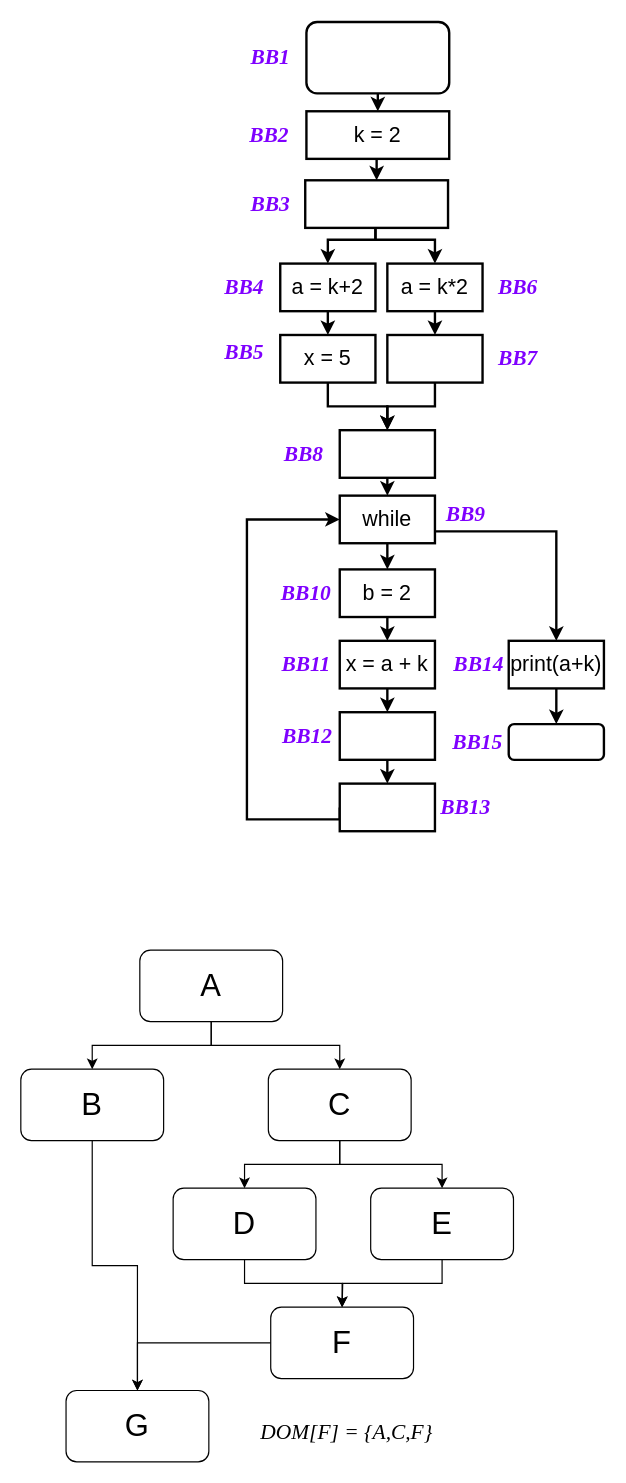
This 626x1483 diagram has some shape labels left out. Here are the shapes that lost their labels. From the top down, the centre of each, then its label:
point 377,57: entry
point 376,203: if
point 434,358: x = 8
point 387,453: k = a
point 387,735: y = a*b
point 556,741: exit
point 387,807: k ++
